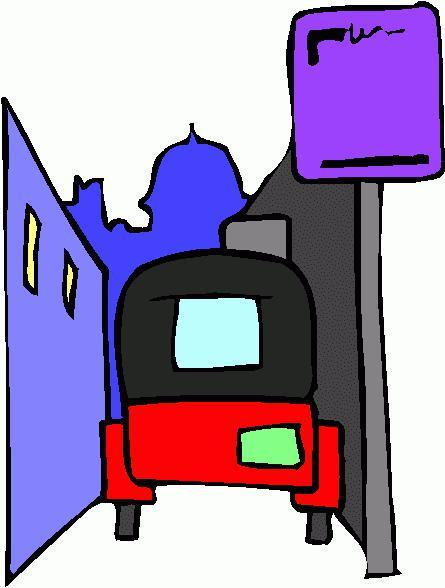car: (93, 251, 344, 547)
